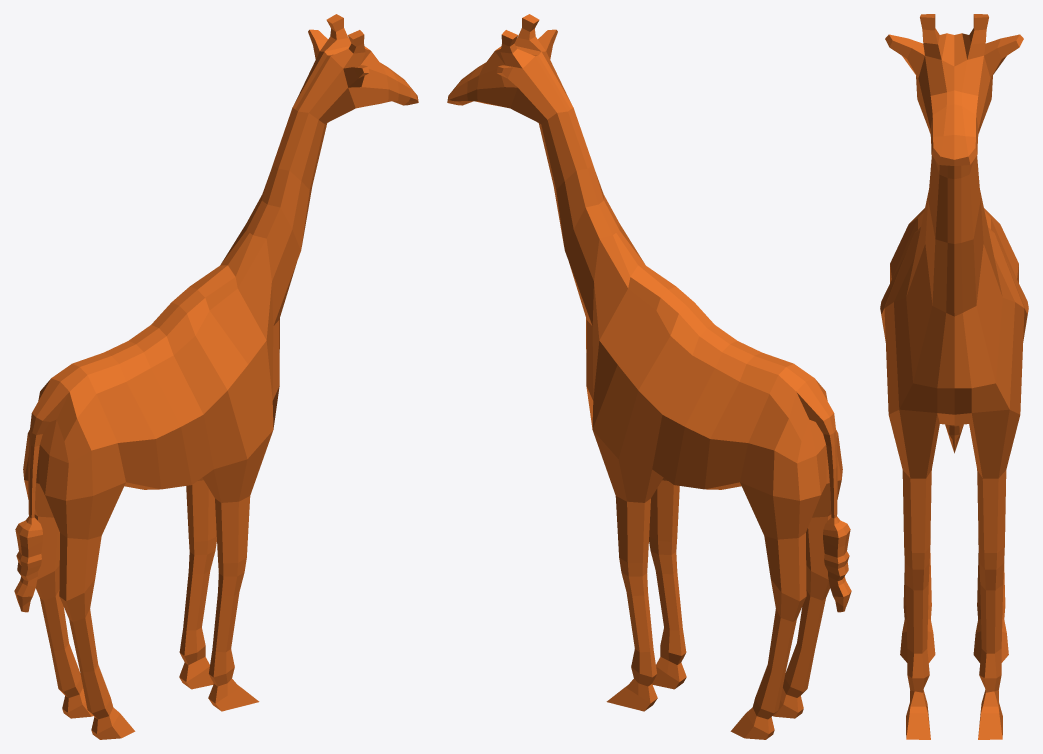
The model's file is girraffe44.fbx.
3 views of the same model, side by side, from view 1: azimuth 30°, elevation 25°; view 2: azimuth 150°, elevation 25°; view 3: azimuth 270°, elevation 25° (orthographic). The views are drawn at different scales.
Parts seen in each view (by area): view 1: Plane; view 2: Plane; view 3: Plane.
Part boxes in pixels (x1,y1,x2,y2): Plane: (14, 14, 418, 739); Plane: (447, 14, 851, 739); Plane: (880, 14, 1028, 739).
Bounding box in the file's own units: 194 × 297 × 50.78.
